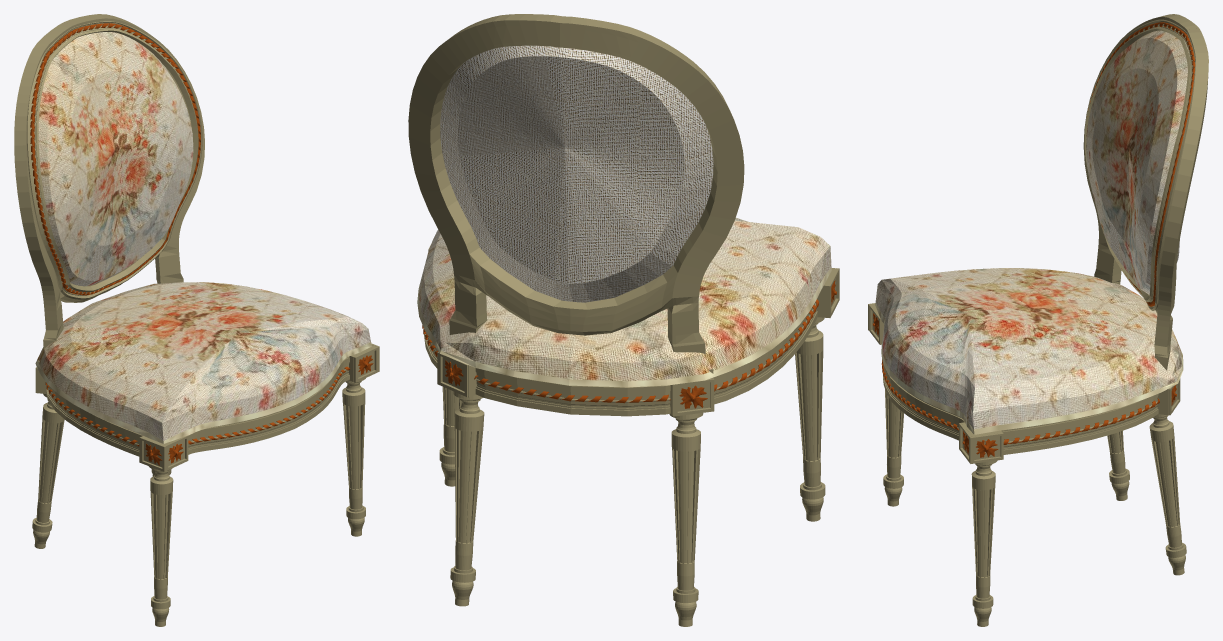
The model's file is Chaise_louisXVI_deco1.obj.
3 views of the same model, side by side, from view 1: azimuth 30°, elevation 25°; view 2: azimuth 150°, elevation 25°; view 3: azimuth 270°, elevation 25° (orthographic). The views are drawn at different scales.
Visible parts, largest first — view 1: Chaise_Cube.000; view 2: Chaise_Cube.000; view 3: Chaise_Cube.000.
Boxes of the visible parts, left/top/right/bottom form: Chaise_Cube.000: left=14, top=14, right=379, bottom=626; Chaise_Cube.000: left=408, top=14, right=839, bottom=626; Chaise_Cube.000: left=868, top=14, right=1208, bottom=626.
Size of the model in its own units: 0.6078 by 0.933 by 0.5746.
Materials: 5 (3 with a texture image).
